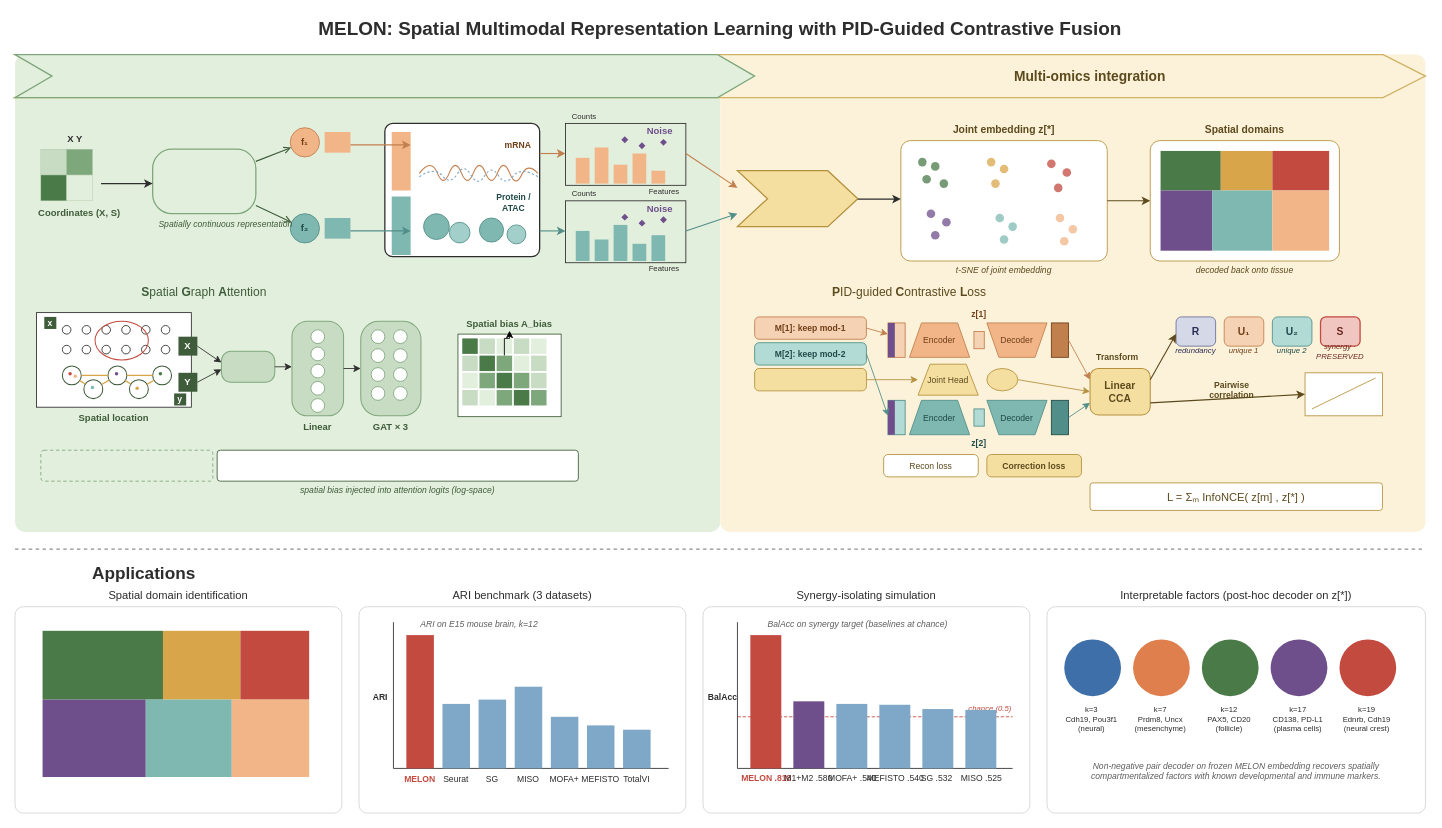
Image size: 1442x828. Some labels were removed from this diagram. The shapes that lost their labels are listed below. From the top down, each one's box as (x1, y1, x2, y2) in pixels, then its label:
(14, 54, 755, 98): Spatial information integration
(152, 148, 256, 214): Encode + GAT
(391, 132, 410, 190): Modality 1
(736, 170, 858, 227): Fusion Transformer
(391, 196, 410, 255): Modality 2
(221, 350, 275, 382): Kernel
(754, 368, 866, 391): M[*]: joint view
(986, 368, 1018, 391): z[*]
(40, 449, 213, 481): Prop. 1 — Fusion inherits PID recovery guarantee (R + U₁ + U₂ + S)
(216, 449, 578, 481): AttnLogit_ij = (q_i · k_j) / √d + A_bias_ij
